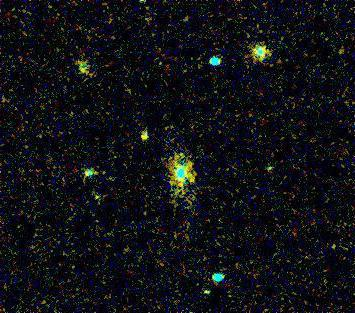star: (193, 277, 223, 307)
